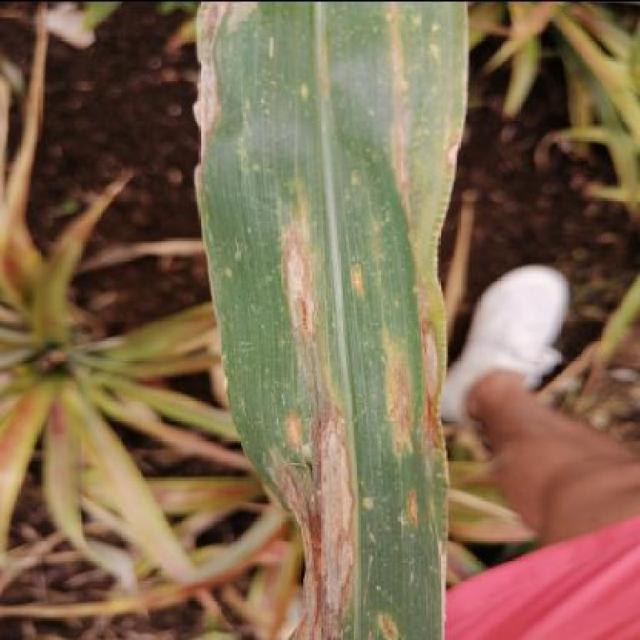Corn_Leaf_Blight: (186, 0, 469, 640)
